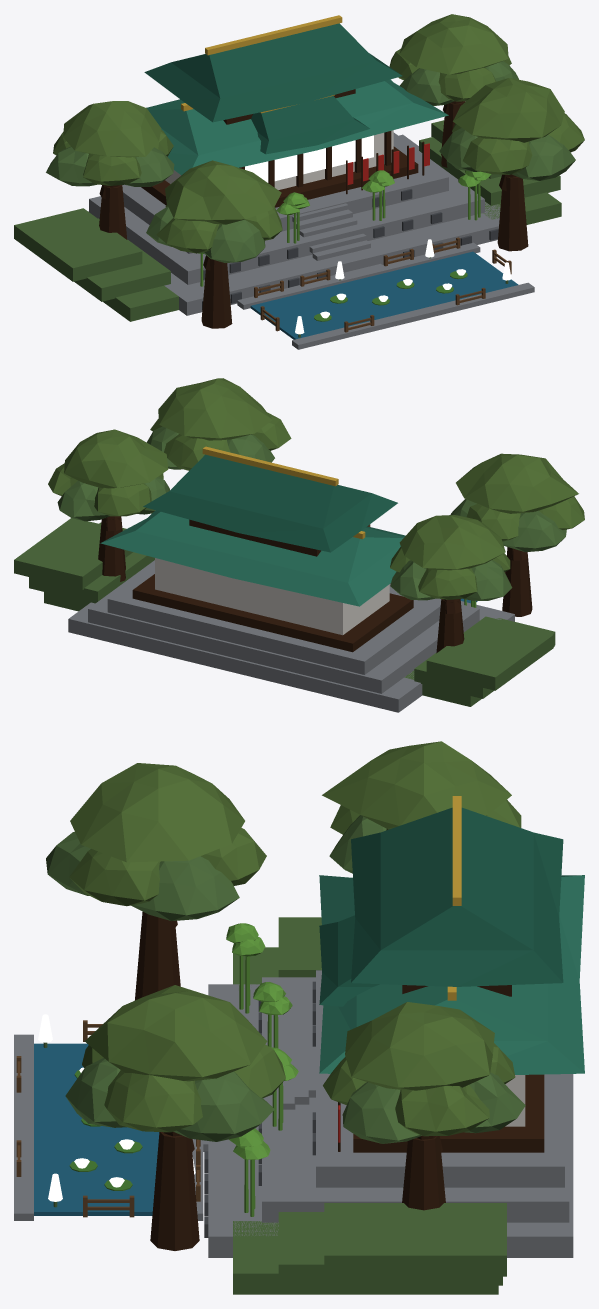
Rendered from eientei.glb.
3 views of the same model, one above another, from view 1: azimuth 30°, elevation 25°; view 2: azimuth 150°, elevation 25°; view 3: azimuth 270°, elevation 25° (orthographic). The views are drawn at different scales.
Parts seen in each view (by area): view 1: Eientei_Opaque, Eientei_Emissive; view 2: Eientei_Opaque; view 3: Eientei_Opaque, Eientei_Emissive.
Part boxes in pixels (x1,y1,x2,y2): Eientei_Opaque: [14, 14, 584, 349]; Eientei_Emissive: [245, 135, 511, 334]; Eientei_Opaque: [14, 378, 584, 712]; Eientei_Opaque: [14, 741, 584, 1294]; Eientei_Emissive: [38, 1014, 195, 1201].
Size of the model in its own units: 52.5 by 18.93 by 34.4.
